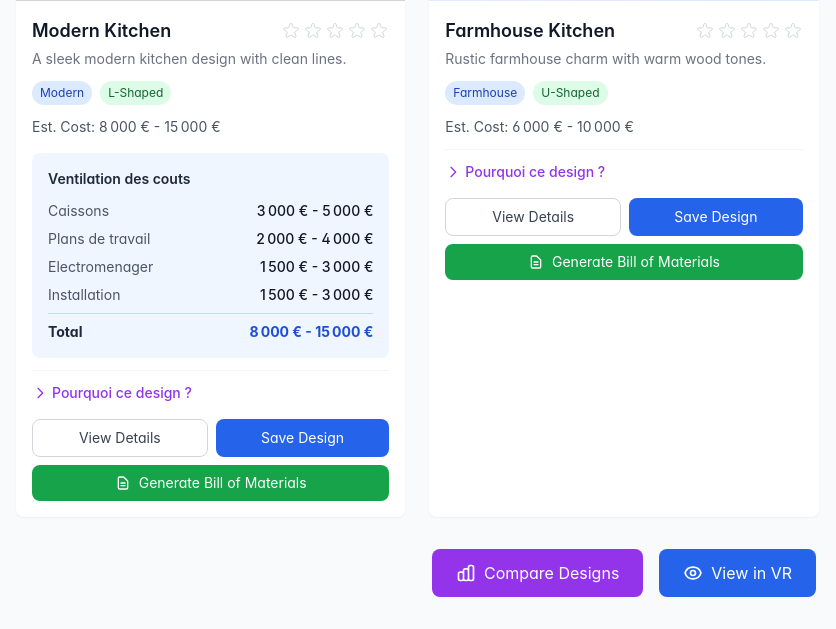
Test case: GeneratedDesigns › Design Explanation › should collapse explanation when button is clicked again
(page scrolled)
Click the button "Pourquoi ce design ?" below "Total" at (112, 393), box top-left (32, 383), bottom-right (192, 403)
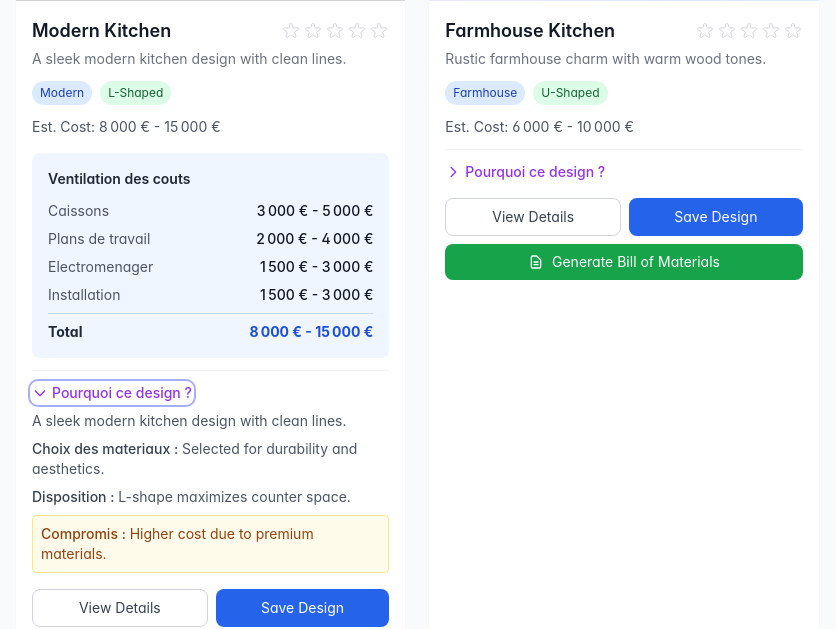
Result: the text "Selected for durability" is shown at top-left (32, 440), bottom-right (357, 477)
Click the button "Pourquoi ce design ?" below "Total" at (112, 393), box top-left (32, 383), bottom-right (192, 403)
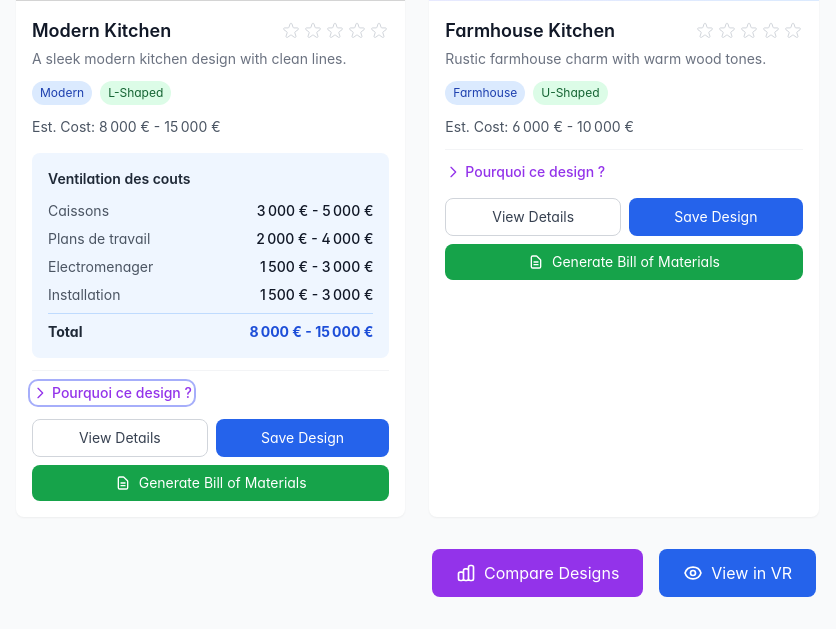
Result: the text "Selected for durability" is gone
